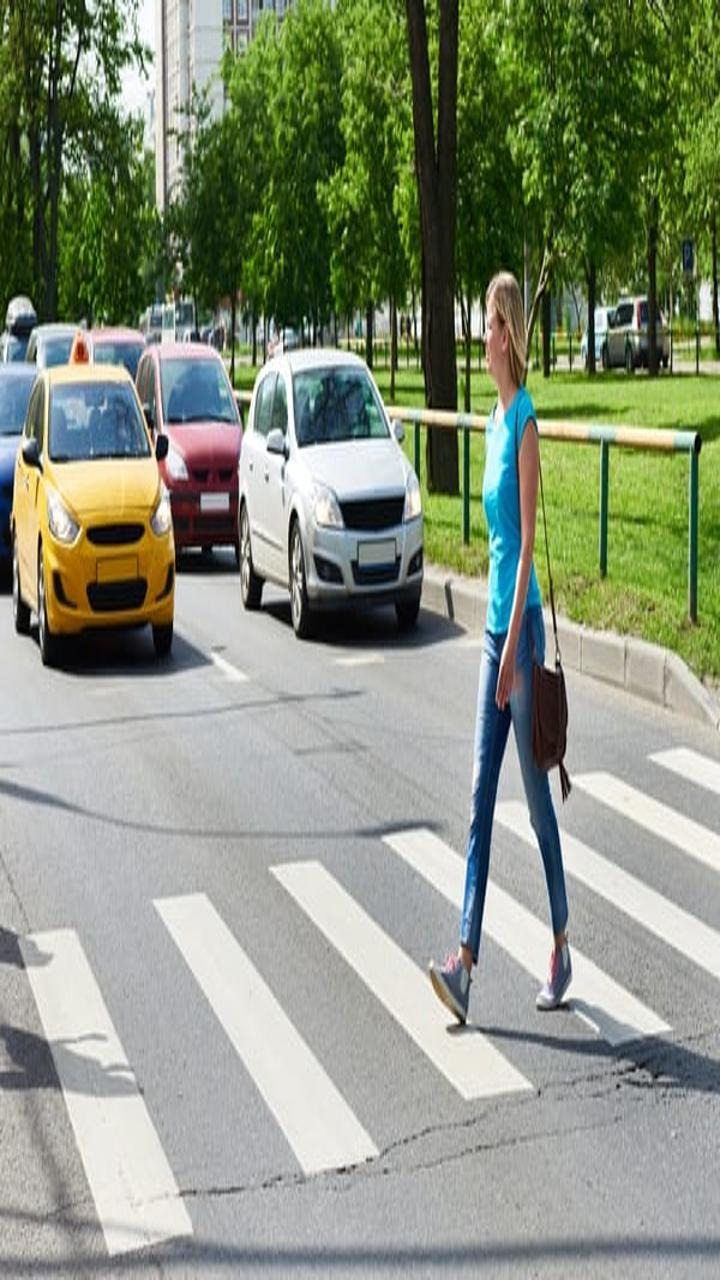pedestrian: (418, 279, 612, 1036)
vehicle: (233, 344, 434, 652), (11, 361, 179, 668), (140, 319, 256, 555)
